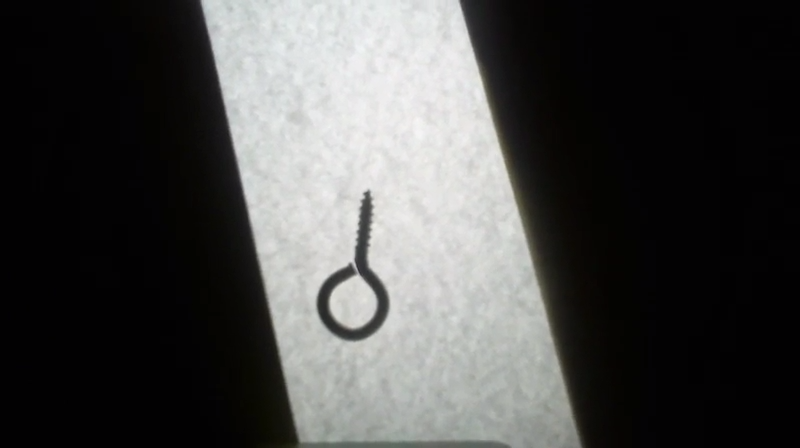O001: (312, 186, 393, 344)
